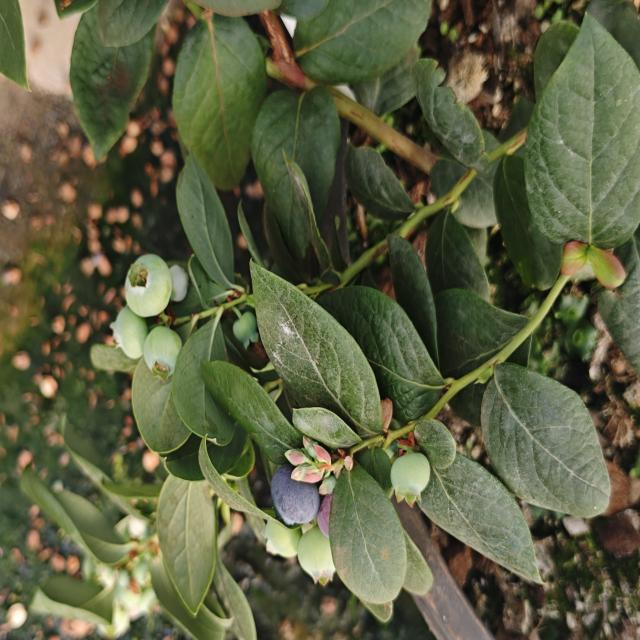ripe: (261, 456, 328, 528)
